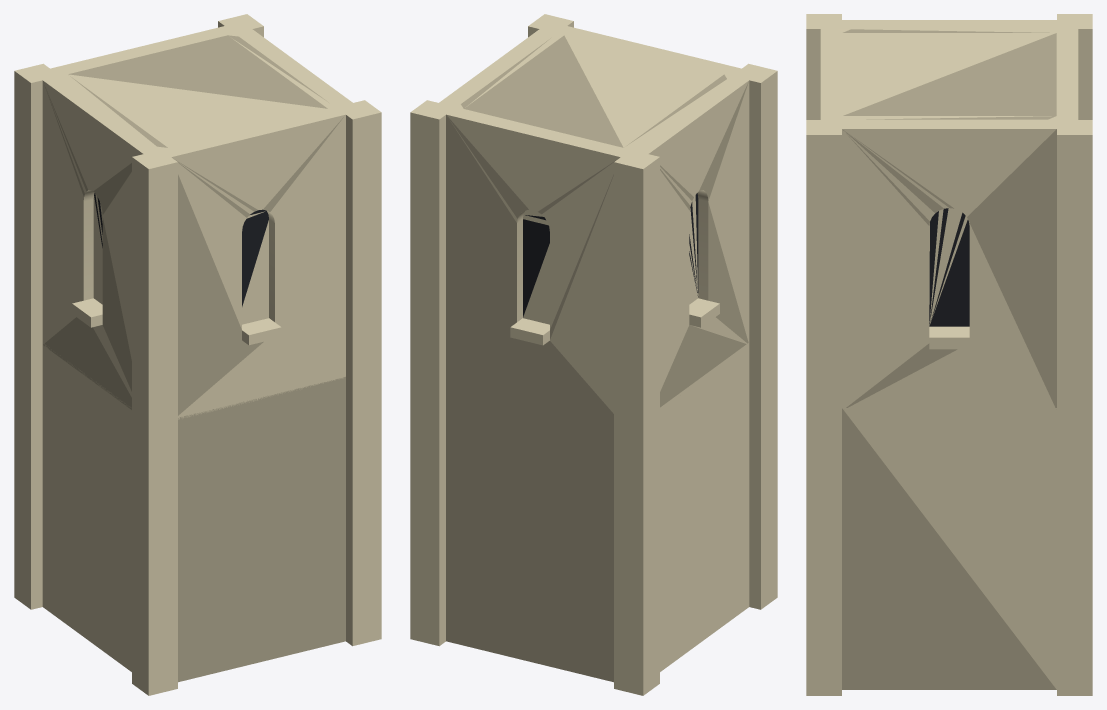
The model's file is 2level.obj.
3 renders of one model, left to right at view 1: azimuth 30°, elevation 25°; view 2: azimuth 150°, elevation 25°; view 3: azimuth 270°, elevation 25°, orthographic. The views are drawn at different scales.
Parts seen in each view (by area): view 1: towerSquareMidWindows.020, towerSquareMid.026; view 2: towerSquareMidWindows.020, towerSquareMid.026; view 3: towerSquareMidWindows.020, towerSquareMid.026.
Part boxes in pixels (x1=…): towerSquareMidWindows.020: x1=14, y1=14, x2=381, y2=432; towerSquareMid.026: x1=14, y1=334, x2=381, y2=695; towerSquareMidWindows.020: x1=410, y1=14, x2=777, y2=433; towerSquareMid.026: x1=410, y1=333, x2=777, y2=695; towerSquareMidWindows.020: x1=806, y1=14, x2=1092, y2=416; towerSquareMid.026: x1=806, y1=408, x2=1092, y2=695.
Bounding box in the file's own units: 9.3 × 20.1 × 9.3.
